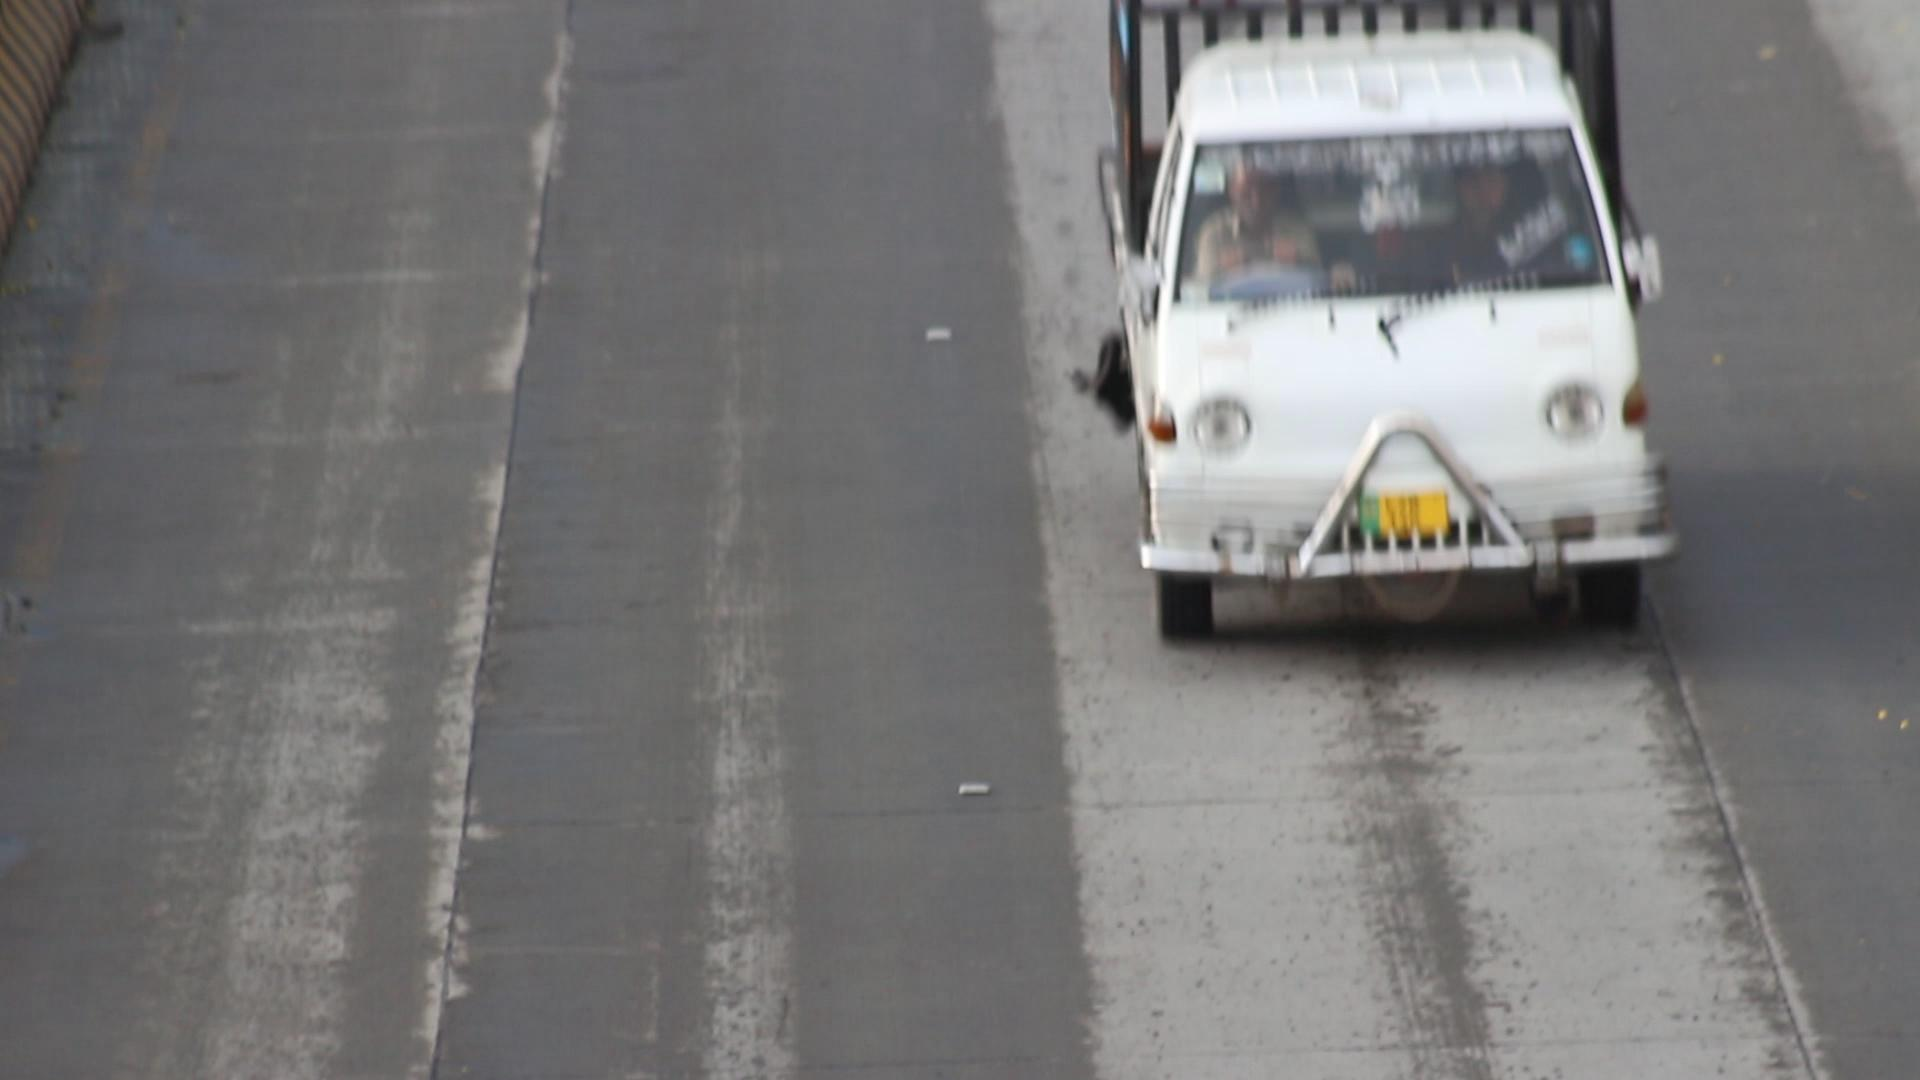windshield: (1171, 113, 1636, 320)
